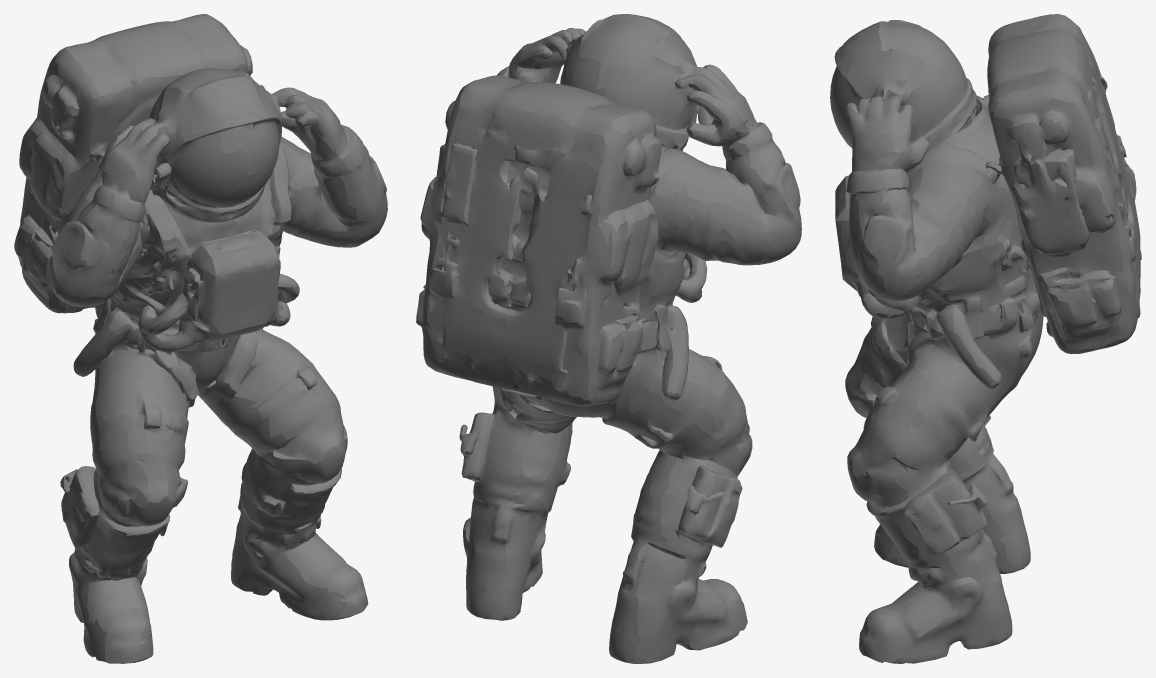
File: completion_astronaut_2.glb
3 views of the same model, side by side, from view 1: azimuth 30°, elevation 25°; view 2: azimuth 150°, elevation 25°; view 3: azimuth 270°, elevation 25° (orthographic). The views are drawn at different scales.
Visible parts, largest first — view 1: geometry_0; view 2: geometry_0; view 3: geometry_0.
Boxes of the visible parts, box(x1,y1,x2,y2) form: geometry_0: box(14, 14, 387, 663); geometry_0: box(416, 14, 801, 663); geometry_0: box(830, 14, 1141, 663).
Bounding box in the file's own units: 0.6153 × 1 × 0.4979.
1 material, 1 textured.
